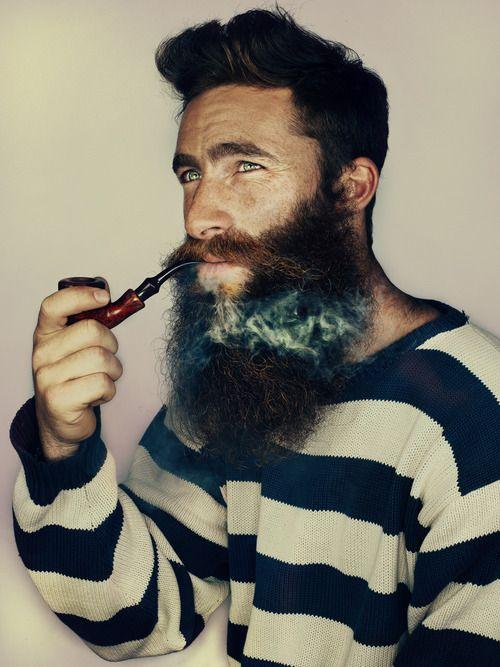trubka: (58, 259, 205, 330)
